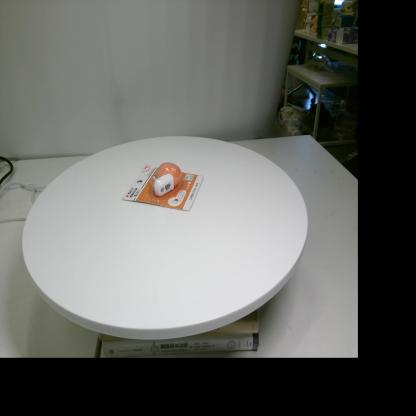Stationery: (122, 162, 204, 212)
